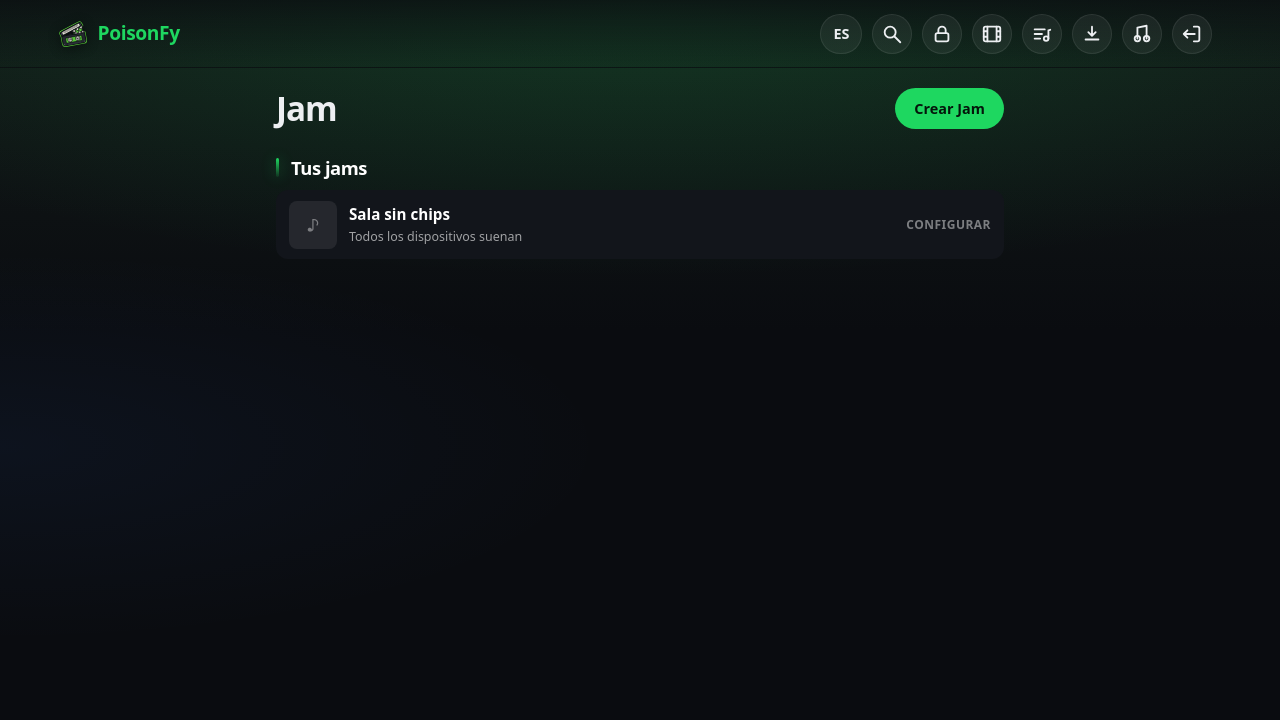
Test: JamScreen › shows no member action chips to a non-owner
The image size is (1280, 720).
Click the button "♪ Sala sin chips Todos los dispositivos suenan Configurar".
click(313, 225)  # box [276,190,1004,259]
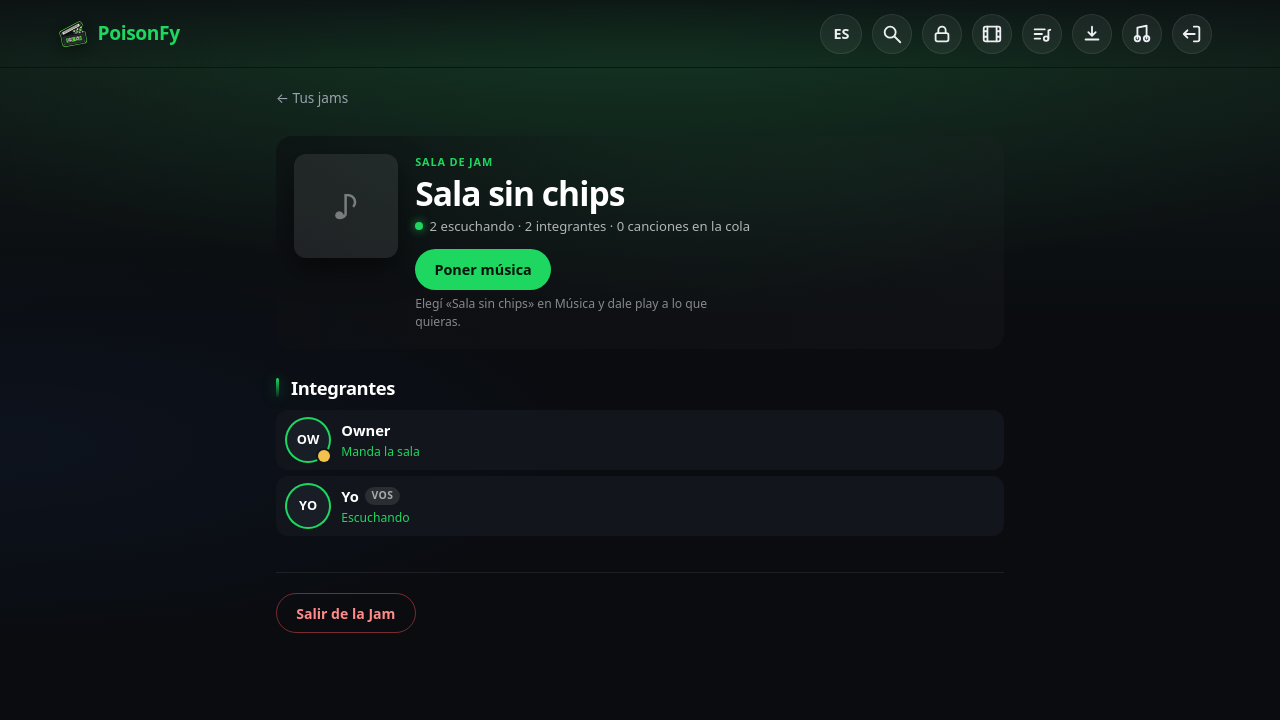
Expected: the text "Owner" is shown, [341,420,391,440]
